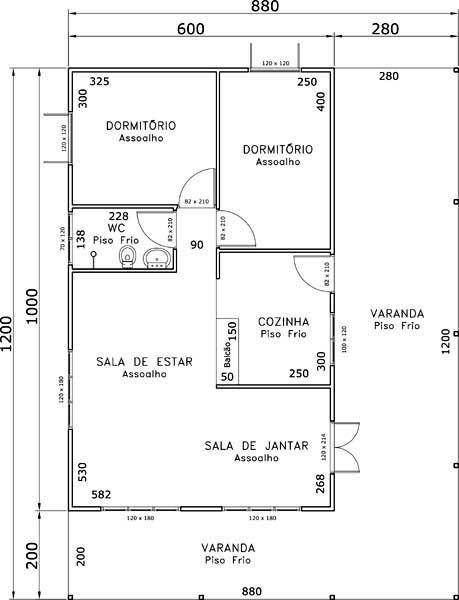door: (129, 206, 182, 254), (211, 204, 266, 250), (327, 420, 366, 478), (178, 160, 216, 208), (295, 251, 335, 296)
room: (61, 260, 338, 520), (63, 61, 225, 216), (216, 60, 337, 254), (58, 203, 178, 274)
window: (64, 110, 88, 173), (100, 502, 183, 519), (219, 504, 301, 516), (247, 63, 304, 80), (327, 294, 341, 362), (64, 352, 75, 423), (66, 215, 76, 264)
